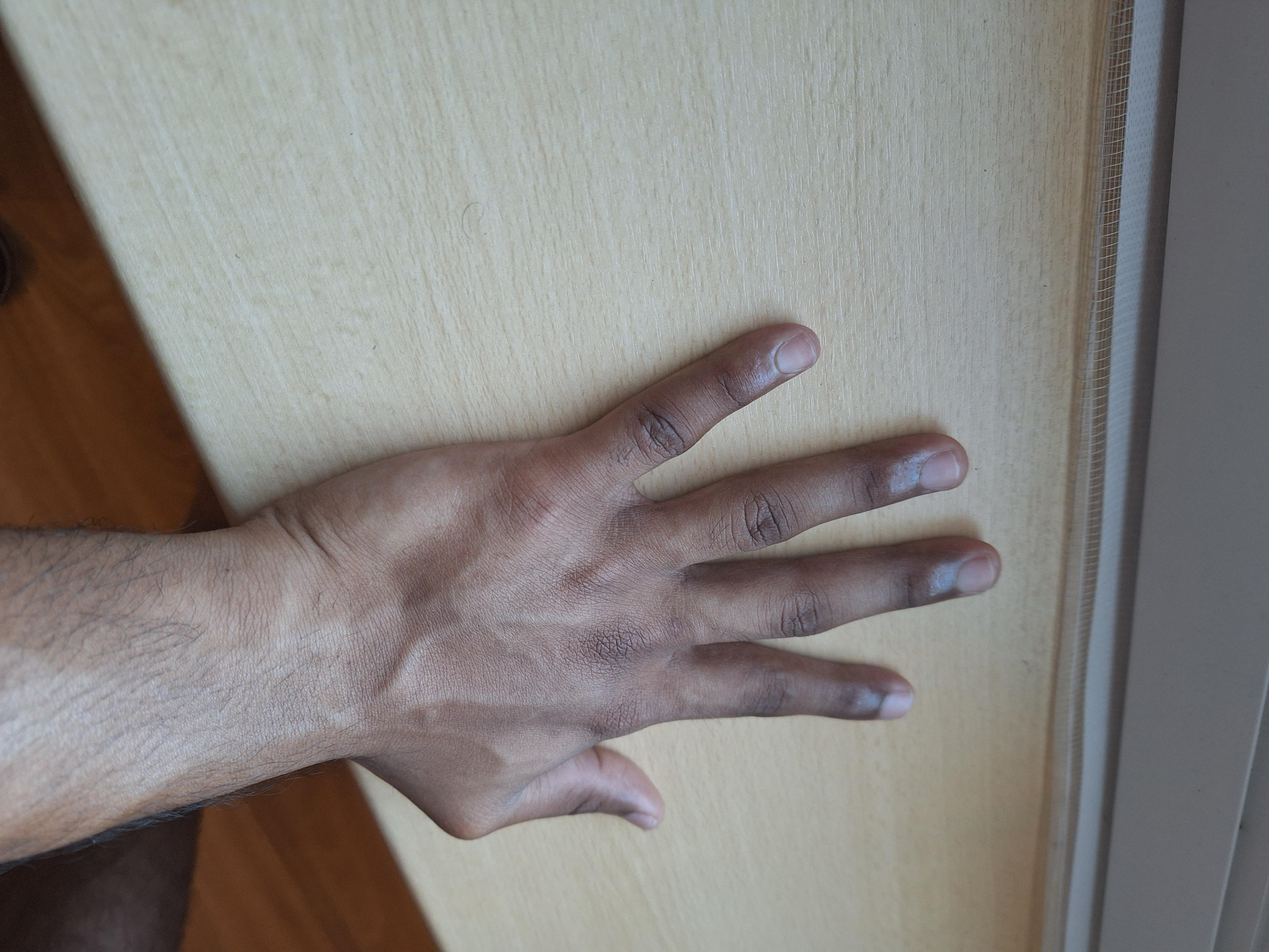Fingernail: (777, 333, 817, 374), (920, 450, 958, 490), (958, 554, 995, 591), (881, 690, 914, 718), (625, 813, 658, 830)
